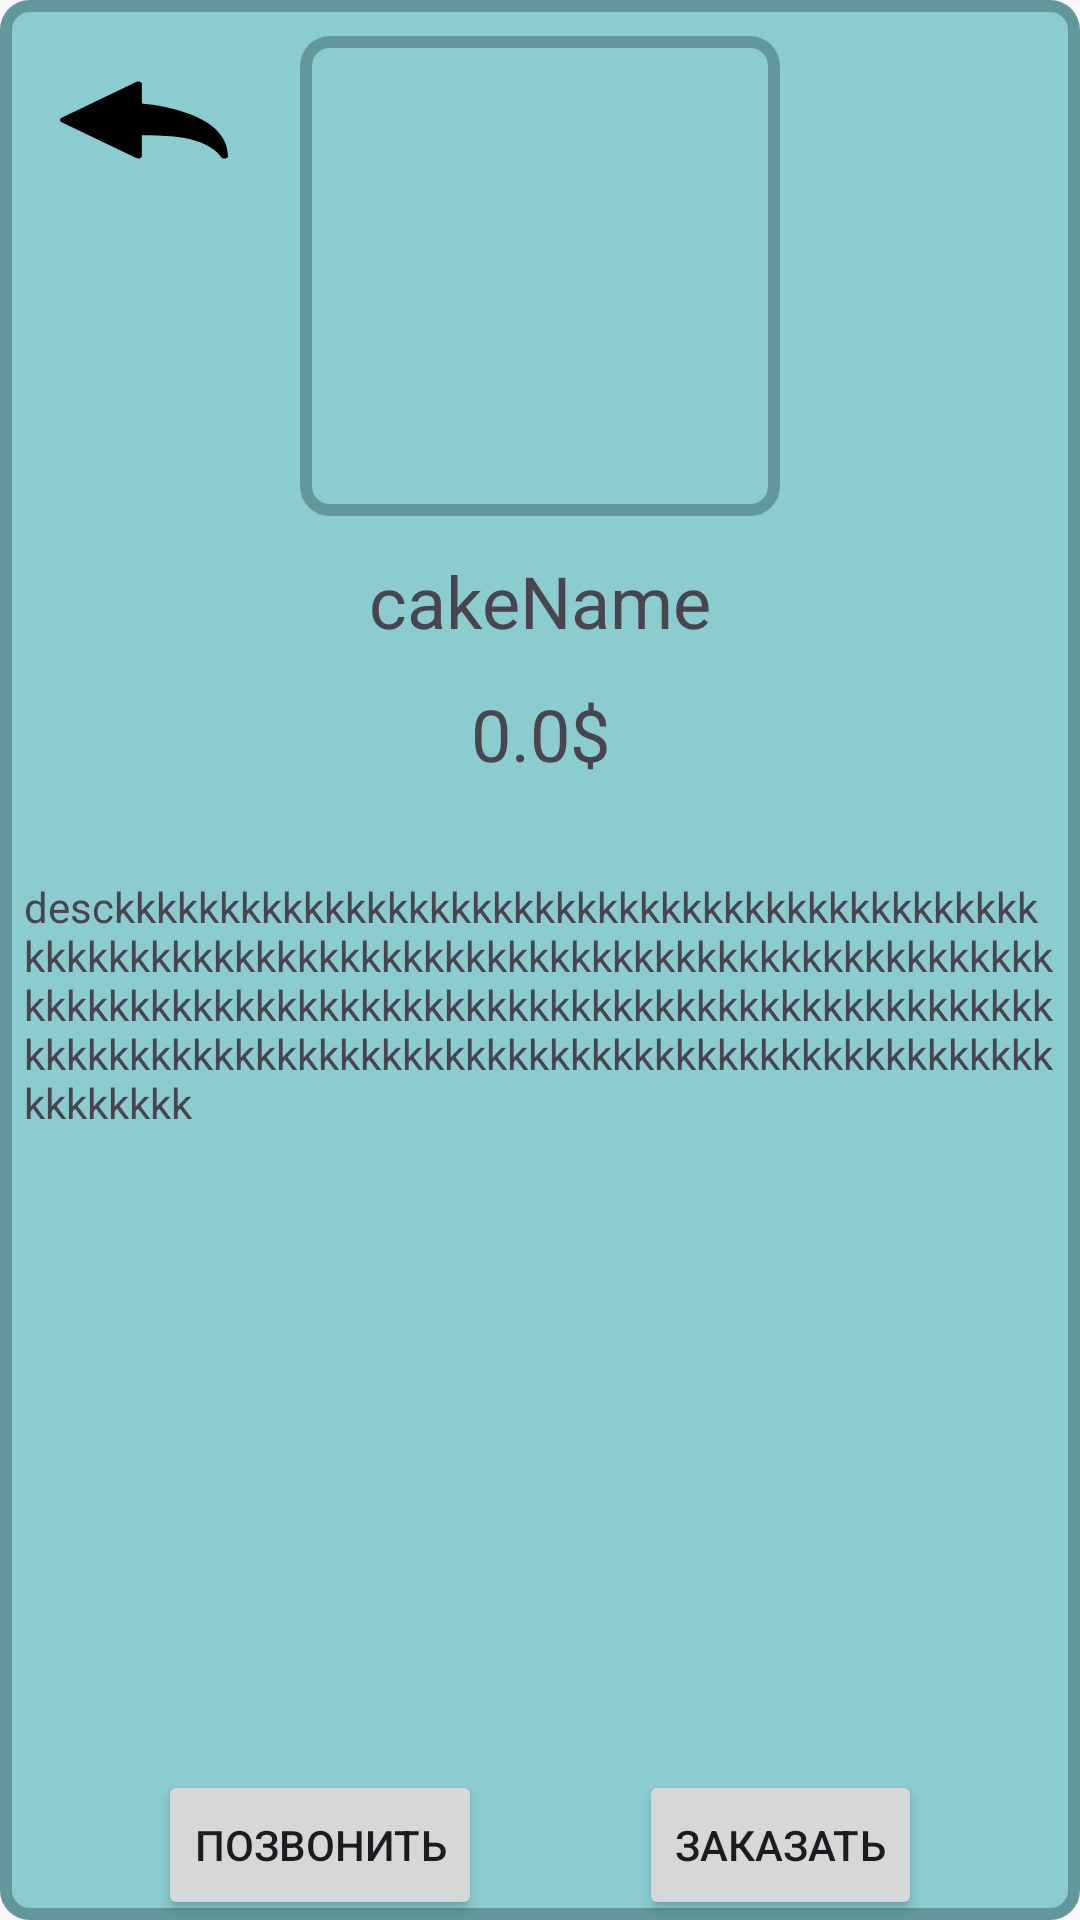

Named icons in this screenshot (1080x1920) and their bounding boxes, [x1=x1, y1=y1, x2=x2, y2=y2]:
back arrow: [x1=60, y1=81, x2=228, y2=159]
